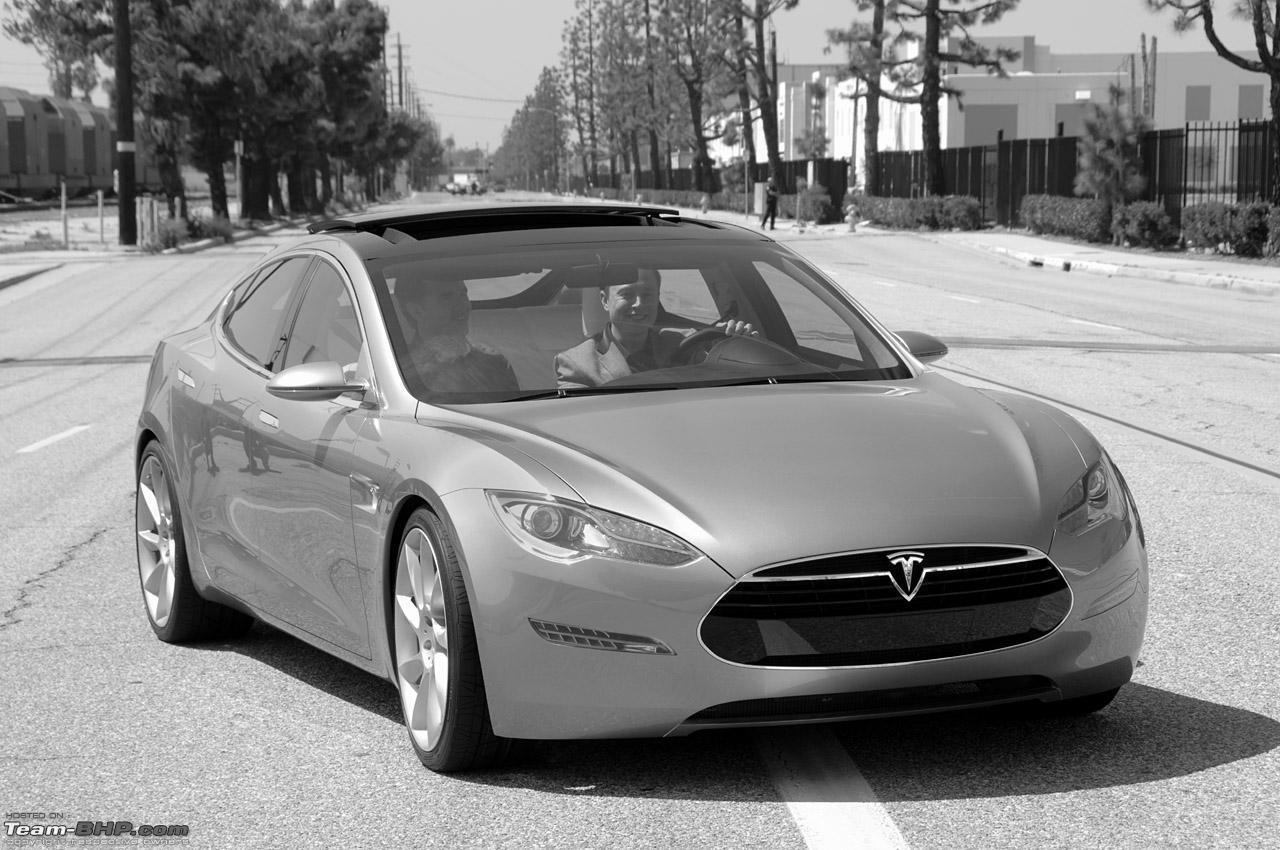car: (131, 188, 1151, 781)
